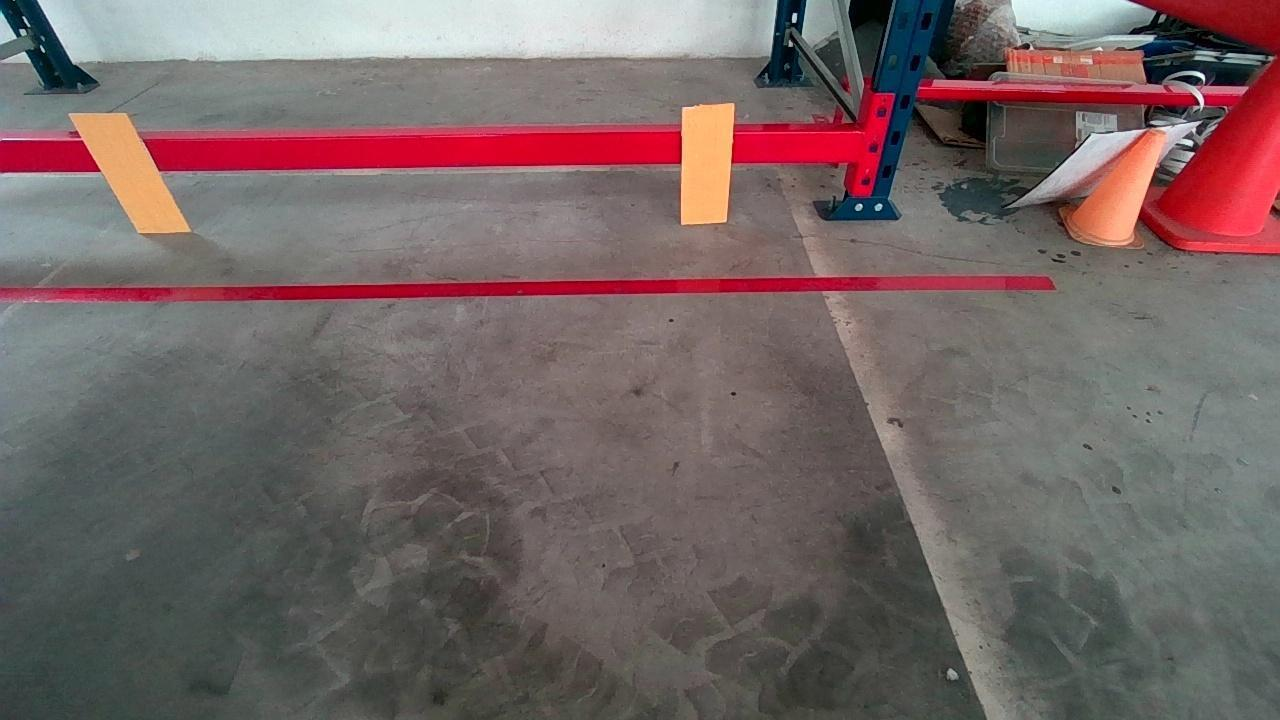h_rack: (9, 128, 869, 174)
orange_strip: (69, 113, 190, 231), (680, 103, 734, 223)
red_line: (0, 272, 1052, 304)
